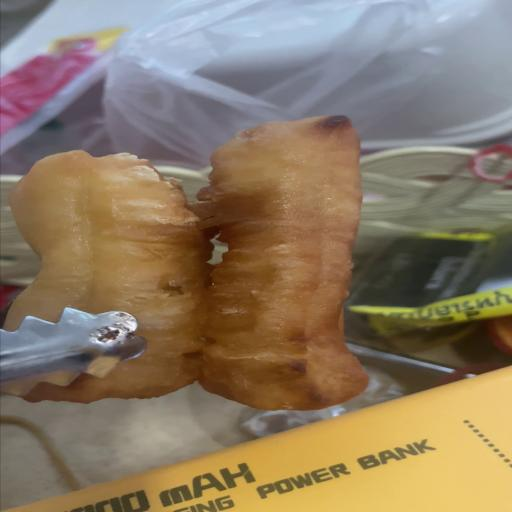street_burnt_defect: (4, 151, 210, 403), (195, 115, 367, 410)
